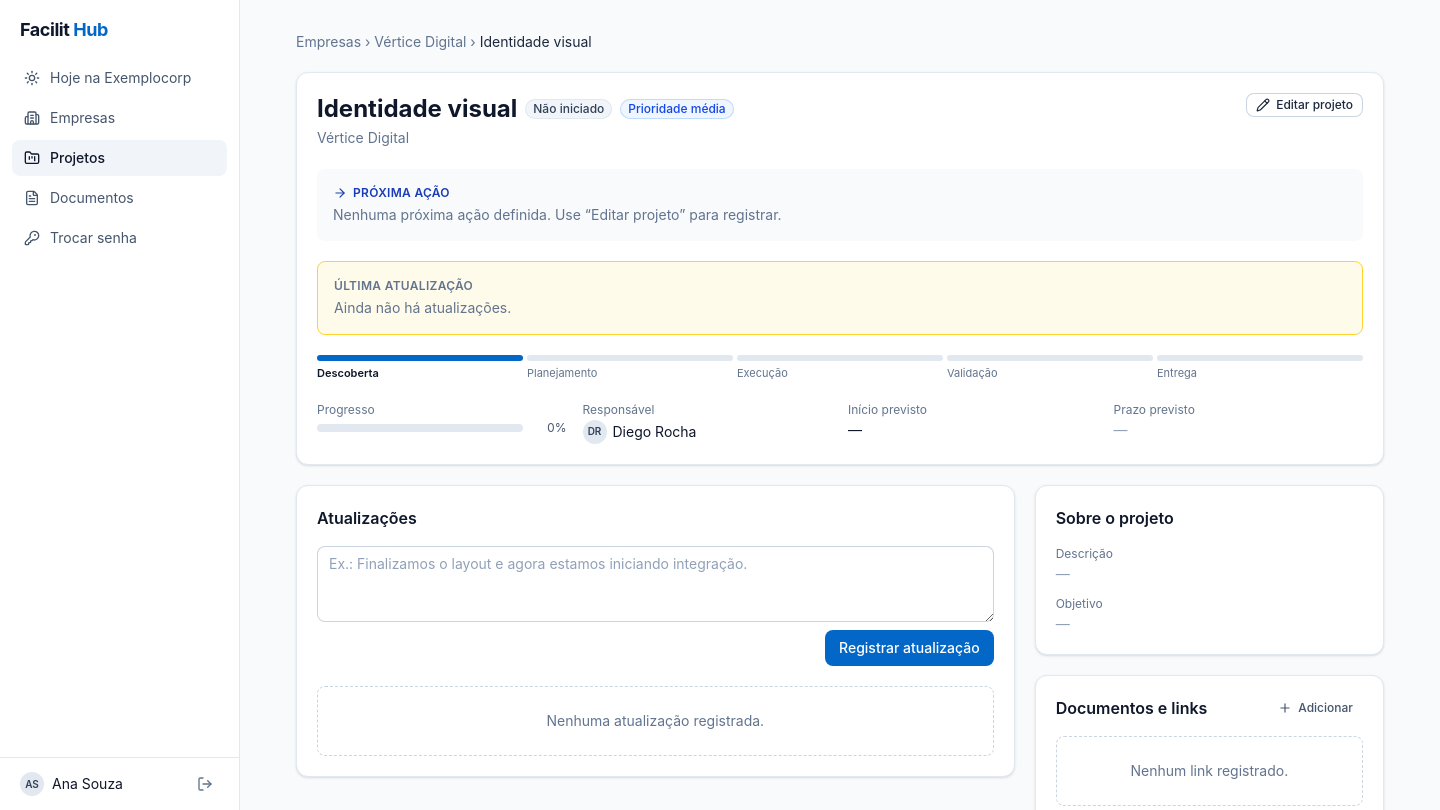
ambiente do projeto › edita progresso e próxima ação
The width and height of the screenshot is (1440, 810).
Click the button "Editar projeto": click(1305, 105) left=1246, top=93, right=1363, bottom=117
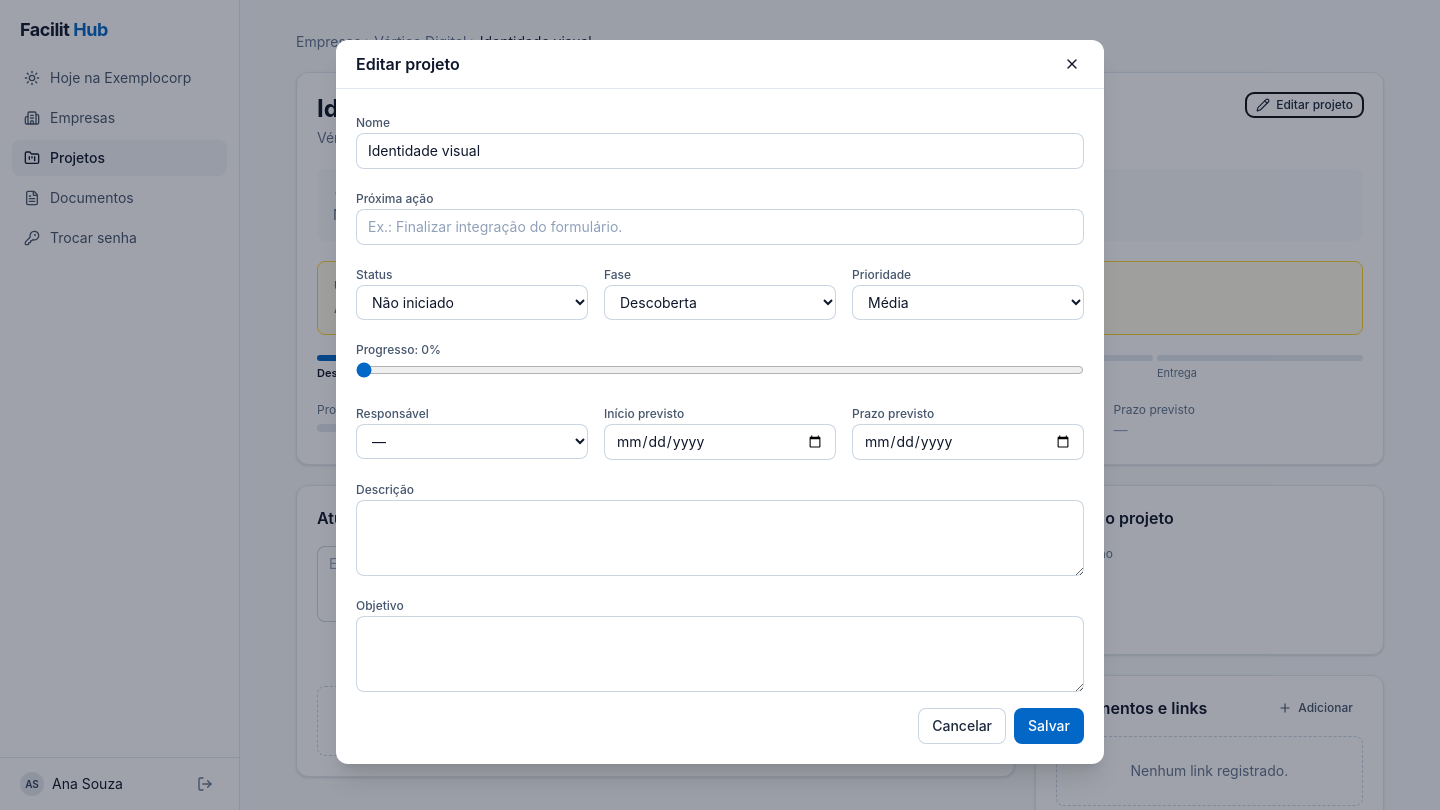
In the field labelled "Próxima ação": (720, 227) left=356, top=209, right=1084, bottom=245, type "Reunião de kickoff."
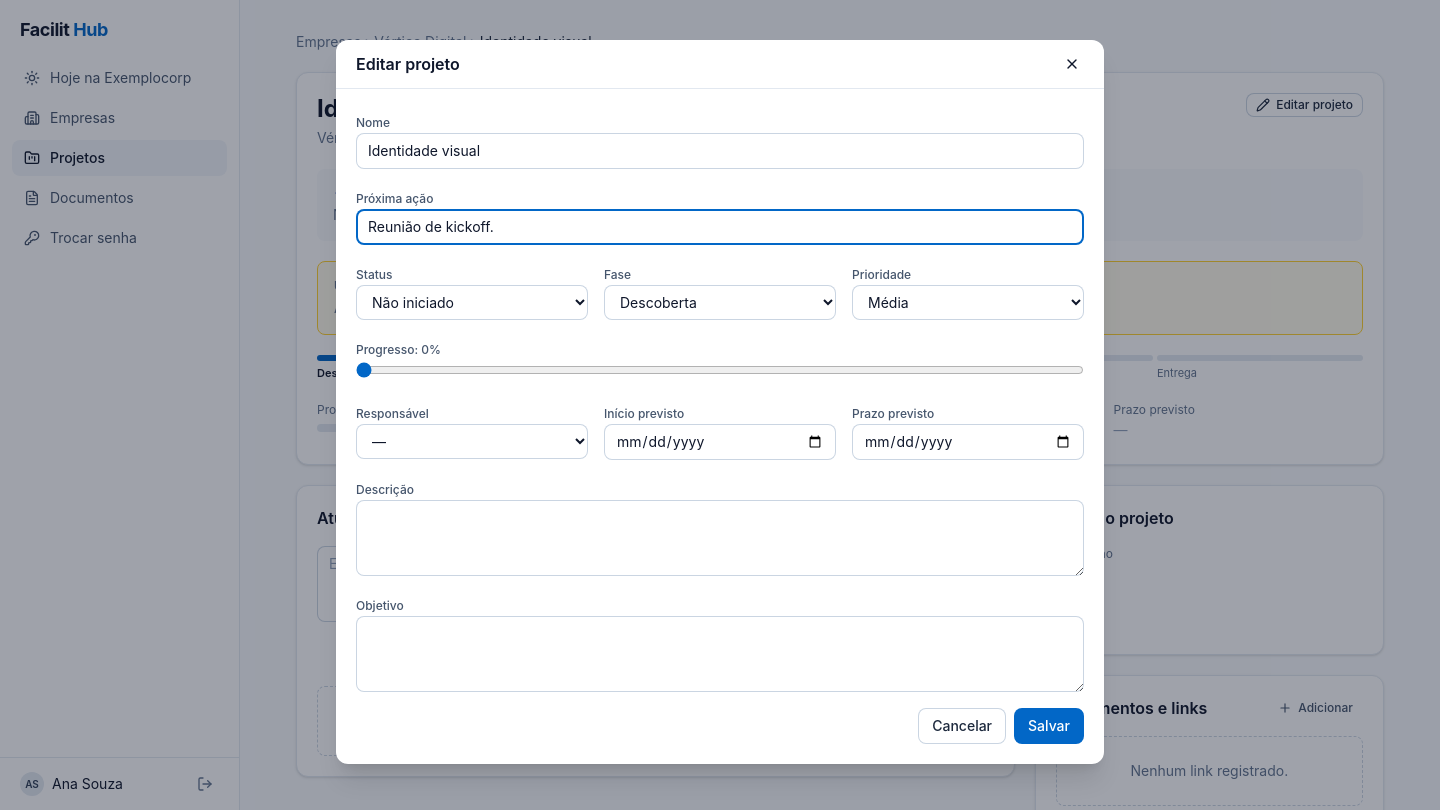
Select "Em andamento" in the dropdown labelled "Status": (472, 302) left=356, top=285, right=588, bottom=320
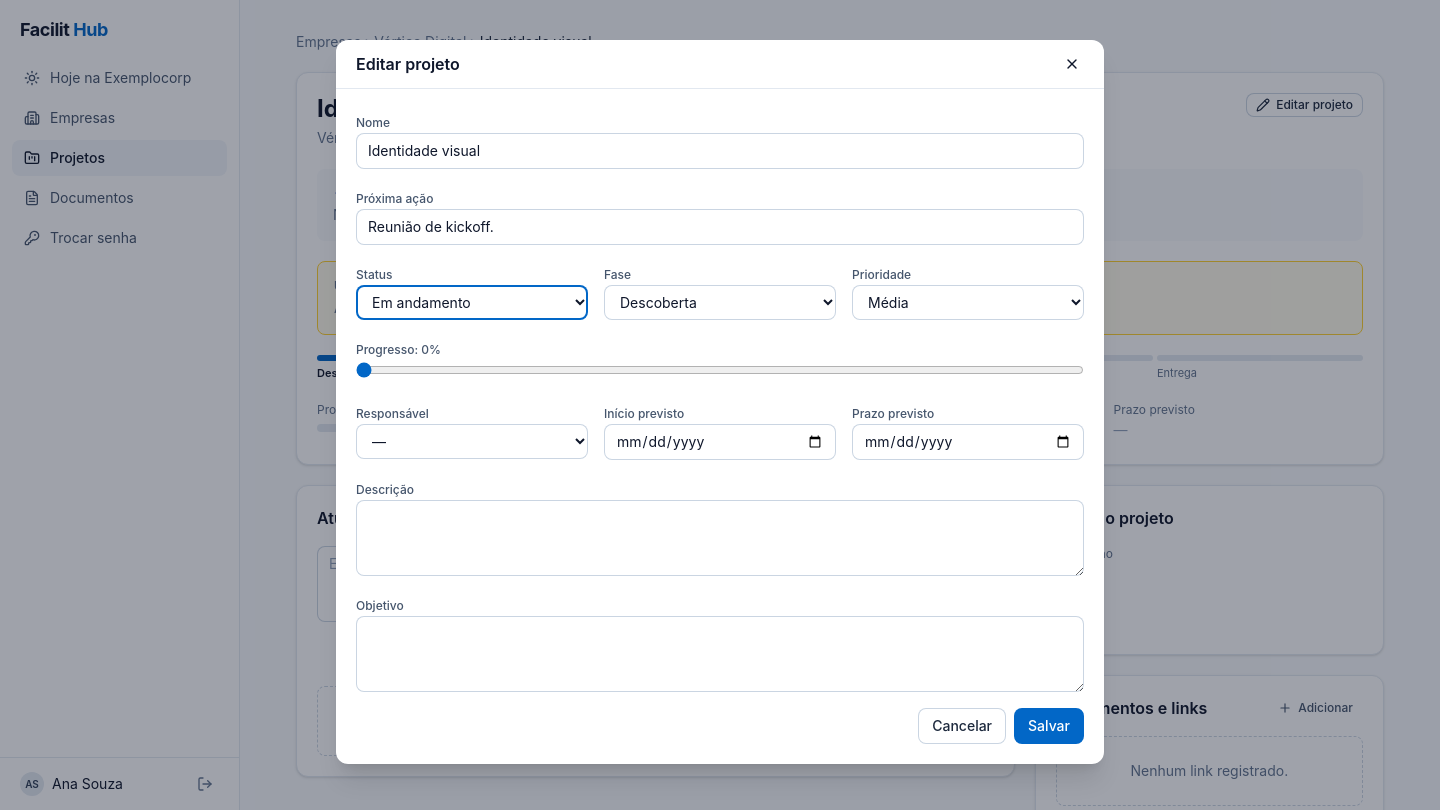
Click the button "Salvar": click(1049, 726) left=1014, top=708, right=1084, bottom=744
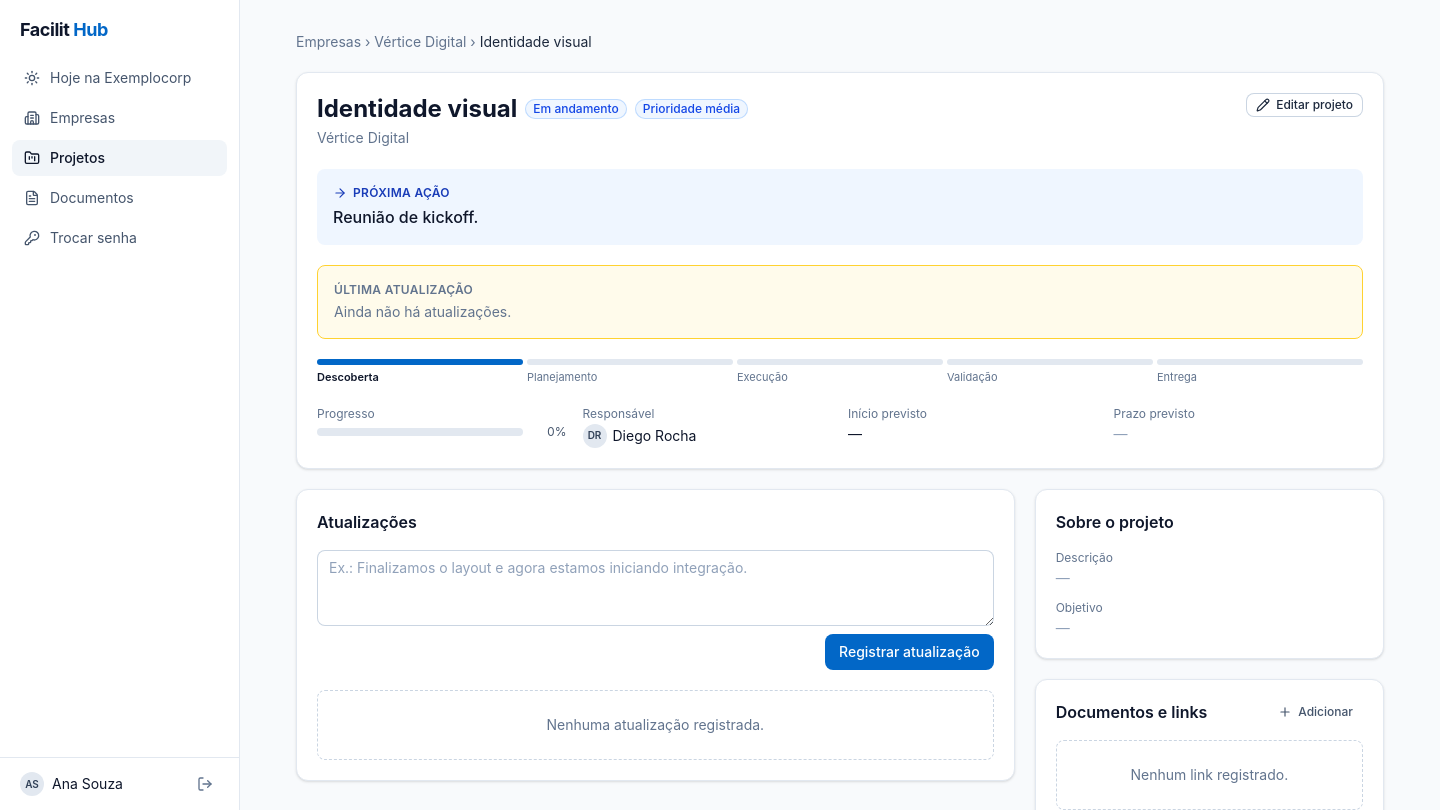
Expected: the dialog is gone
Expected: the text "Reunião de kickoff." is shown, left=333, top=207, right=478, bottom=227
Expected: the text "Em andamento" is shown, left=525, top=99, right=627, bottom=119
